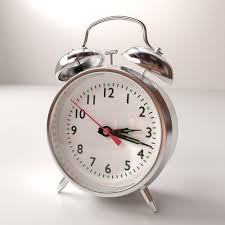alarm_clock: (43, 14, 178, 211), (43, 22, 178, 211)
